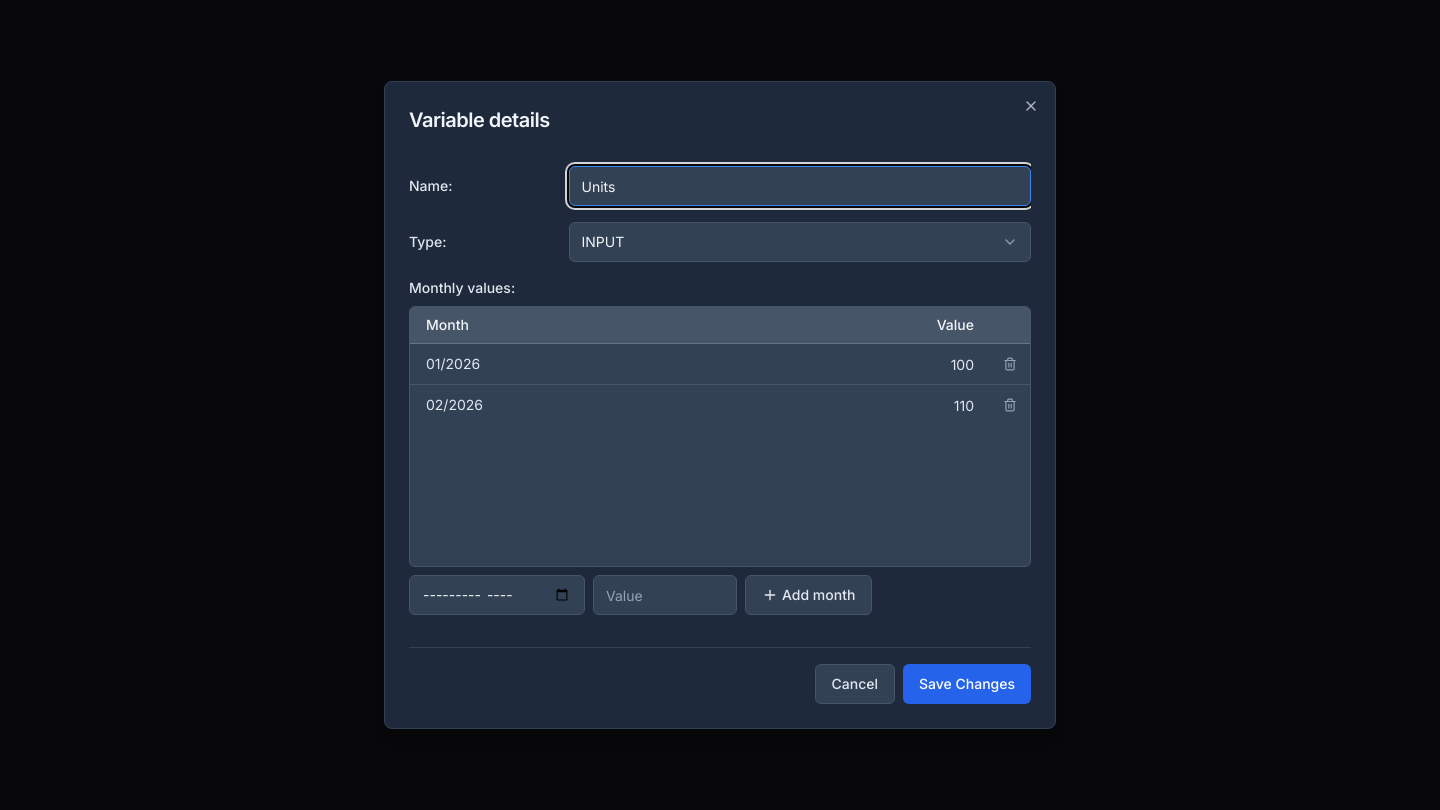
Test: VariableDetailsModal › refuses a month that already has a value and input that is not a number
Type "2026-01" into the field named "new month" at (497, 595), box [409, 575, 585, 615]
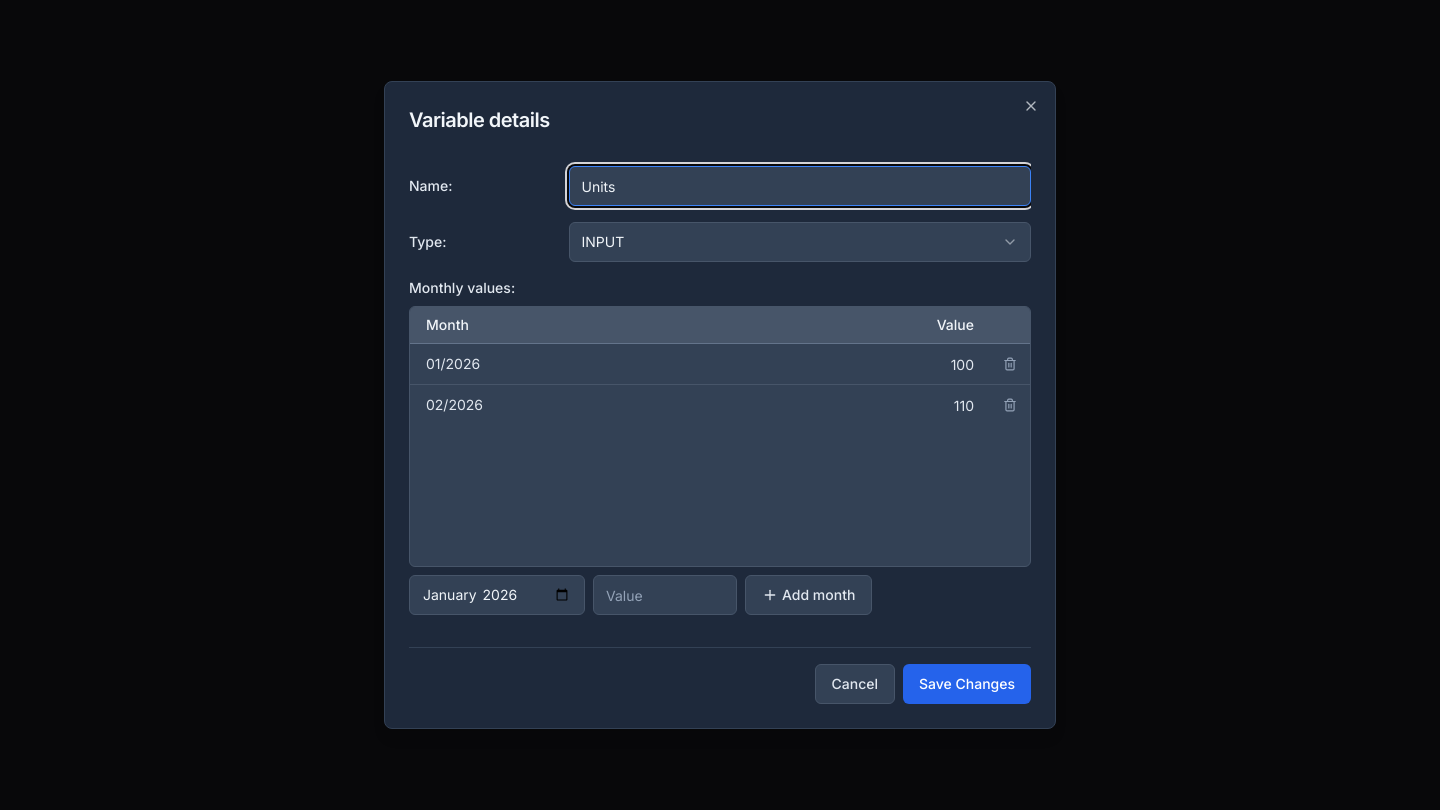
Type "5" into the field named "new value" at (665, 595), box [593, 575, 737, 615]
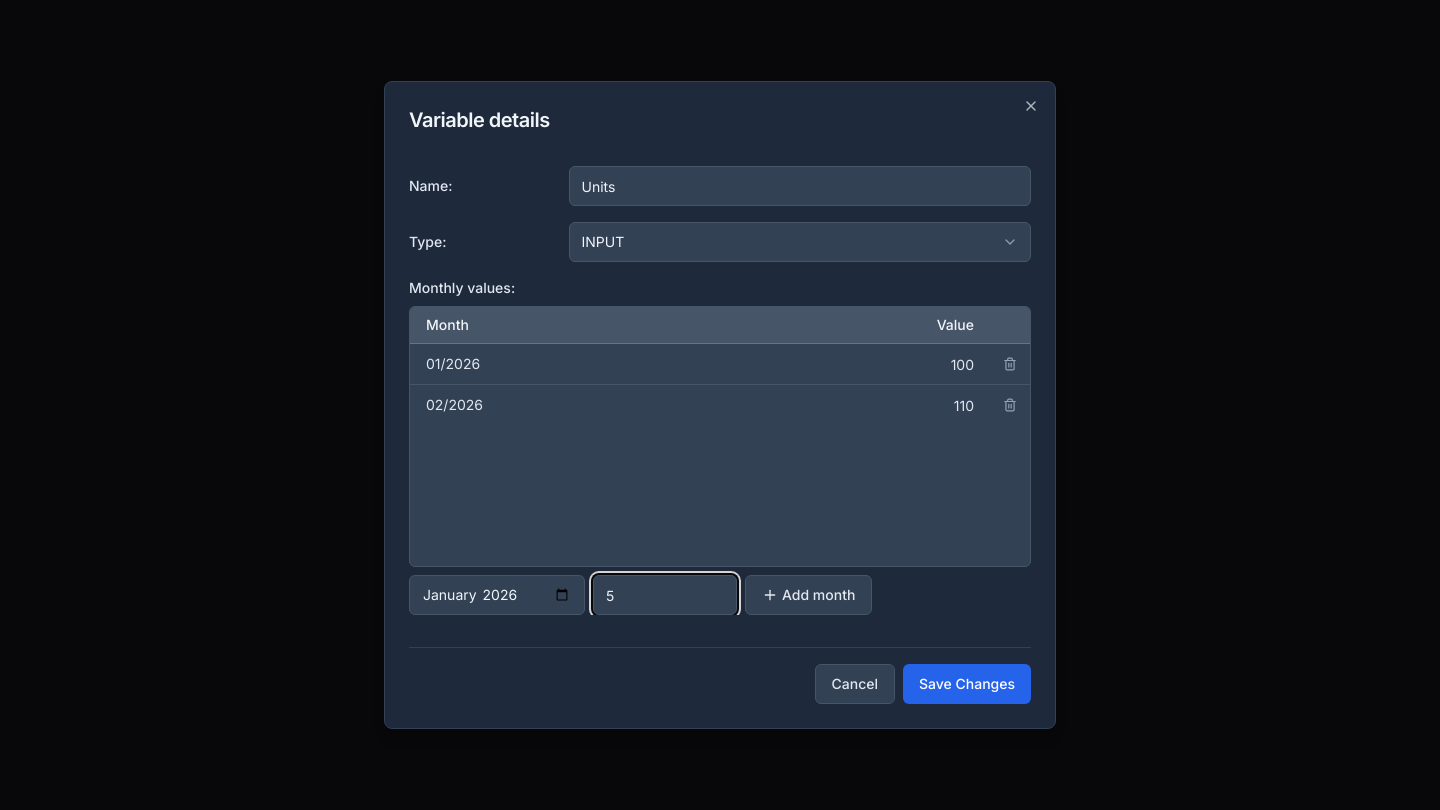
Click the button "Add month" at (809, 595), box [745, 575, 872, 615]
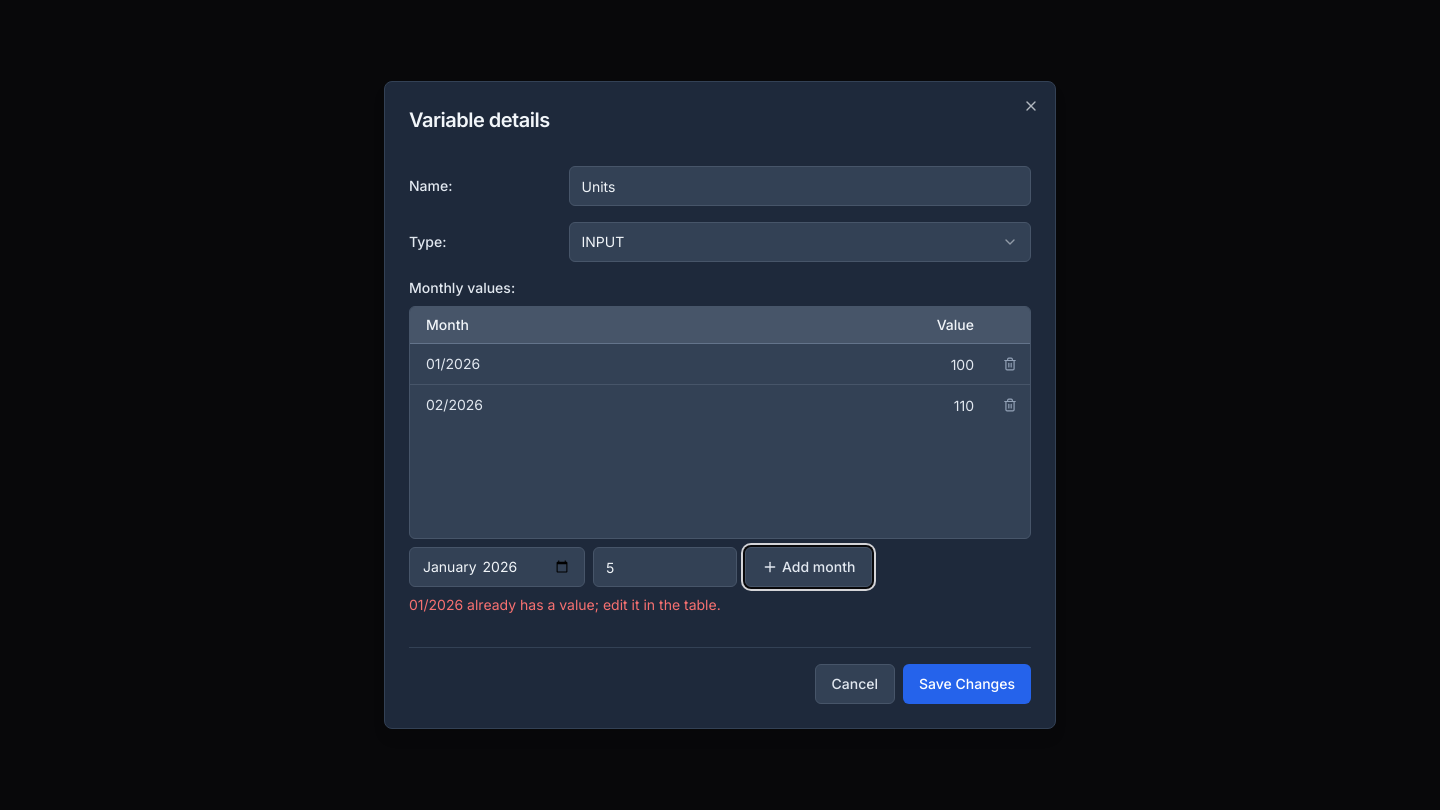
expect the message shows "01/2026 already has a value": met, box [409, 596, 721, 613]
Replace the text in the field named "new month" with "2026-04" at (497, 567), box [409, 547, 585, 587]
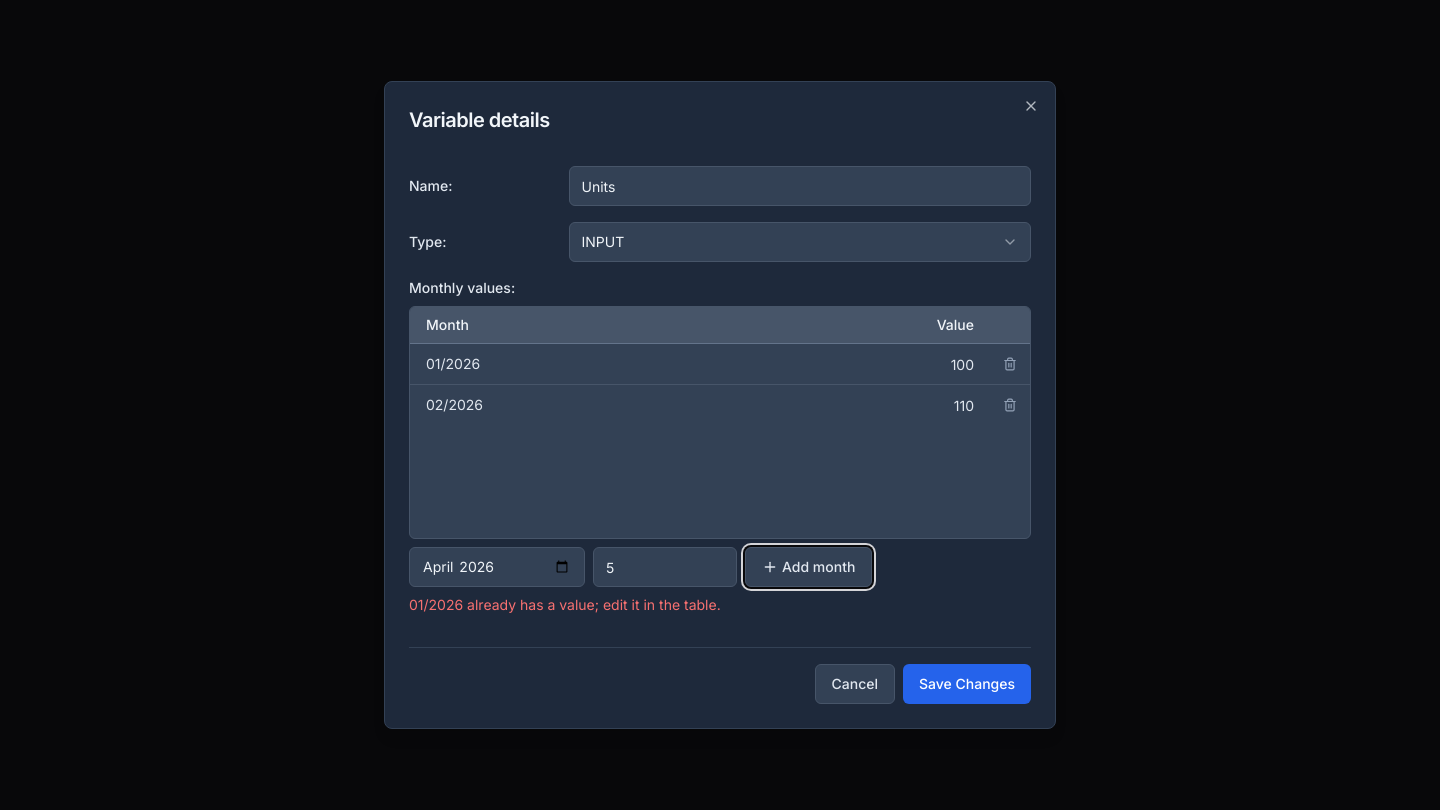
Replace the text in the field named "new value" with "abc" at (665, 567), box [593, 547, 737, 587]
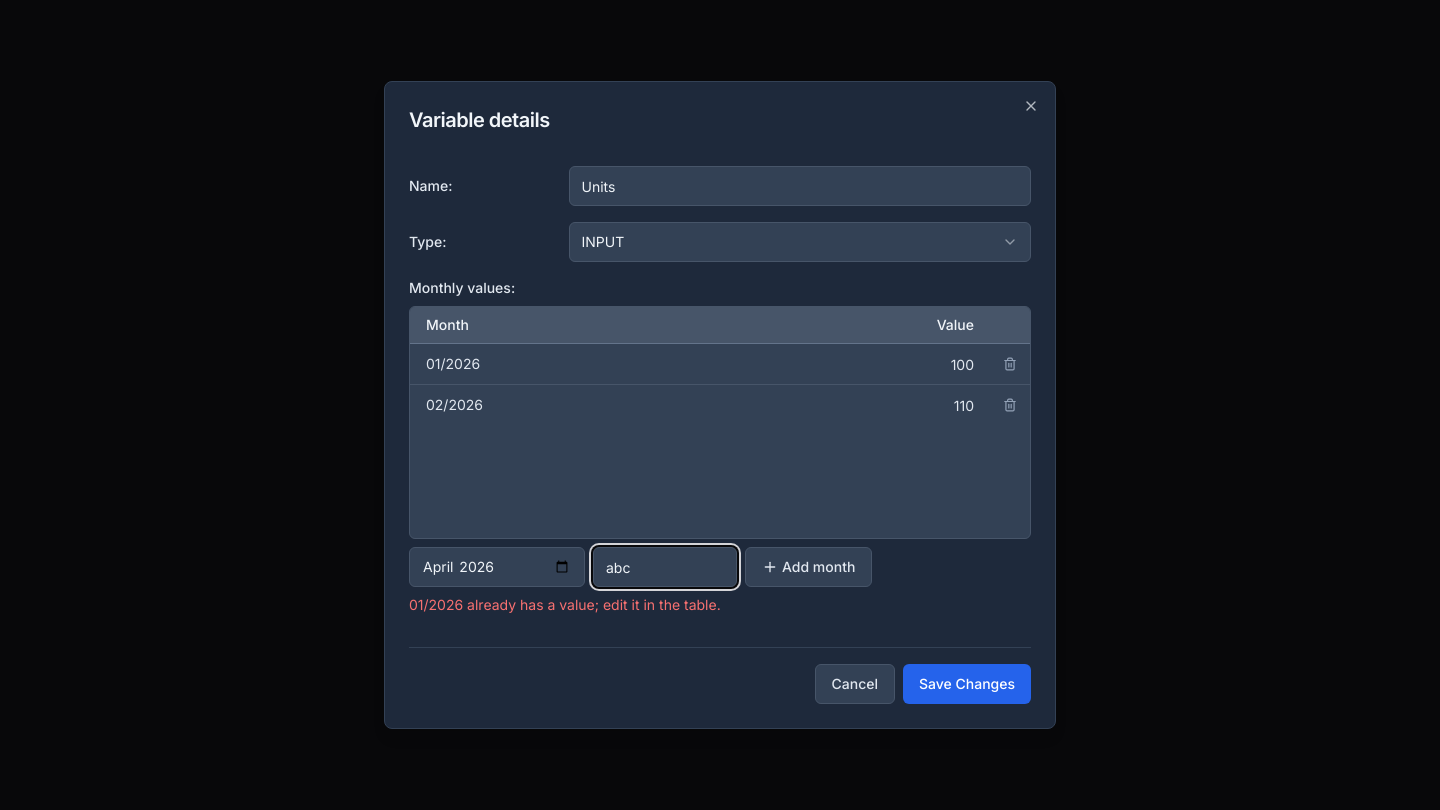
Click the button "Add month" at (809, 567), box [745, 547, 872, 587]
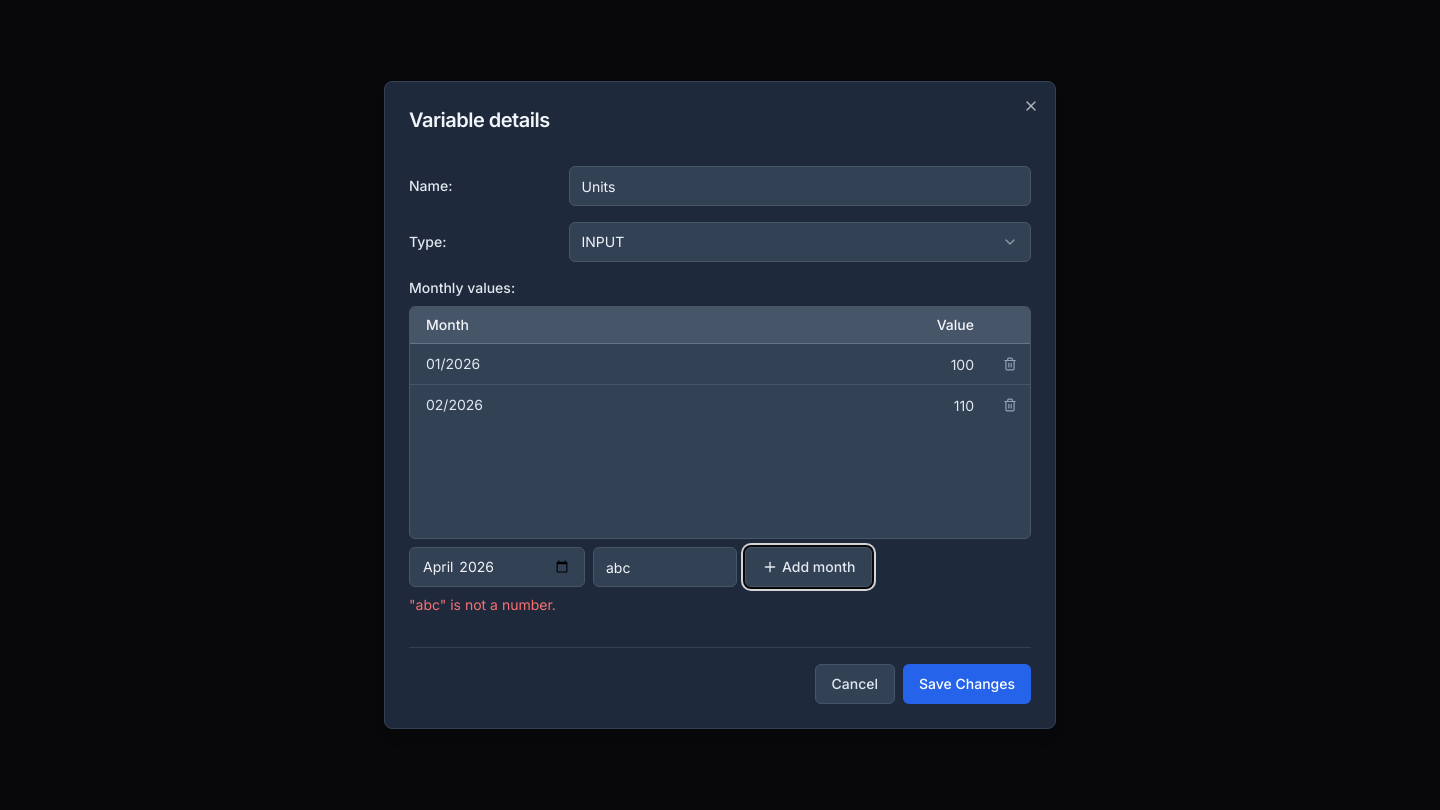
expect the message shows "\"abc\" is not a number": met, box [409, 596, 556, 613]
